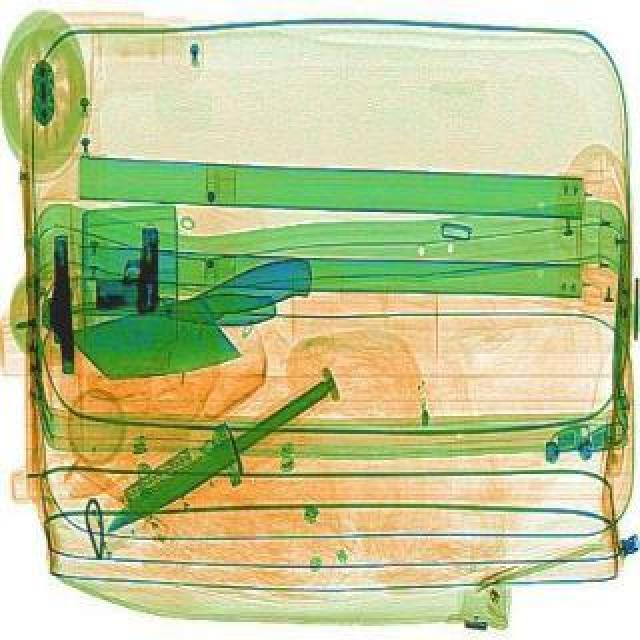gun: (94, 228, 160, 314), (46, 232, 76, 370)
knife: (62, 248, 334, 396), (98, 372, 334, 534), (68, 290, 276, 324)
